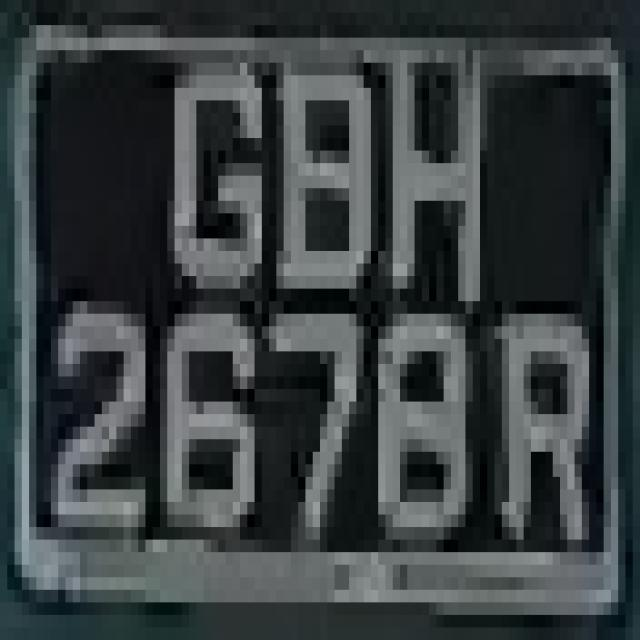2: (36, 276, 146, 577)
6: (138, 288, 269, 564)
7: (247, 276, 364, 552)
8: (371, 314, 480, 564)
B: (262, 13, 378, 326)
G: (153, 38, 262, 326)
H: (378, 12, 487, 314)
R: (473, 264, 596, 577)
